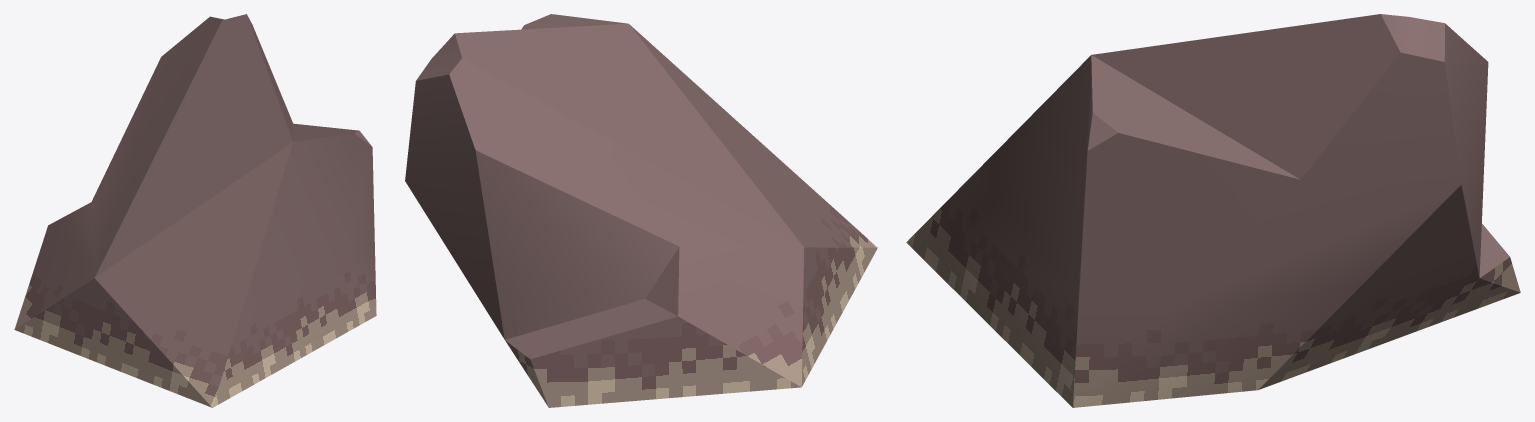
Rendered from beachrock1.glb.
3 views of the same model, side by side, from view 1: azimuth 30°, elevation 25°; view 2: azimuth 150°, elevation 25°; view 3: azimuth 270°, elevation 25° (orthographic). The views are drawn at different scales.
Parts seen in each view (by area): view 1: rock; view 2: rock; view 3: rock.
Boxes of the visible parts, box(x1,y1,x2,y2) form: rock: box(14, 14, 376, 407); rock: box(405, 14, 877, 407); rock: box(906, 14, 1520, 407).
Bounding box in the file's own units: 0.6987 × 0.5524 × 0.8309.
Materials: 1 (1 with a texture image).
